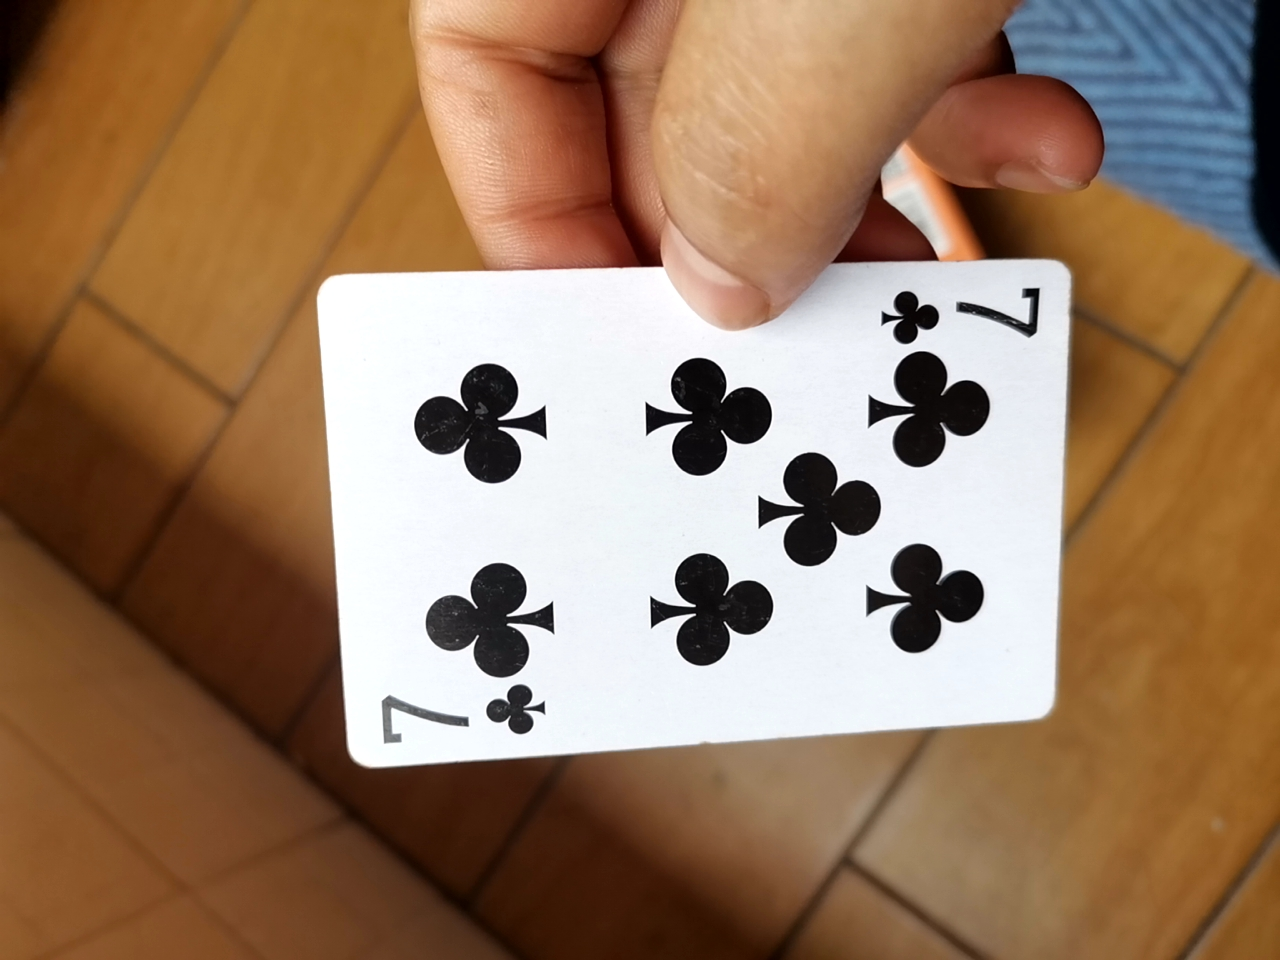mh 7: (295, 264, 1085, 783)
